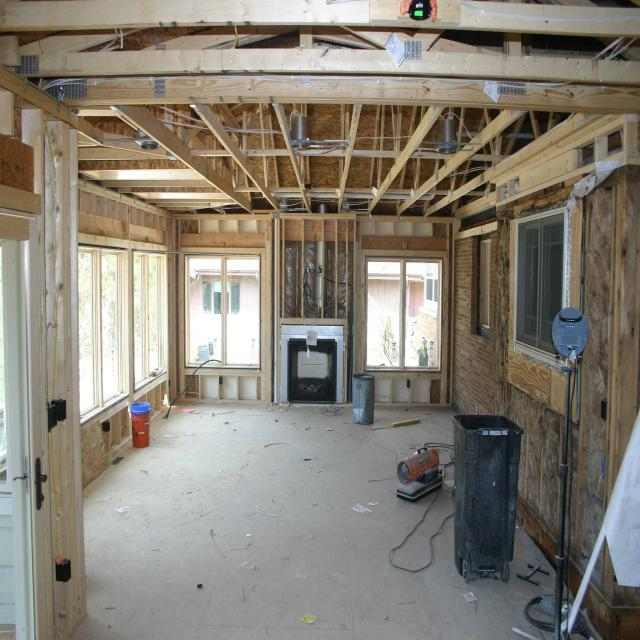floor: (70, 399, 556, 640)
wall: (451, 230, 497, 415)
